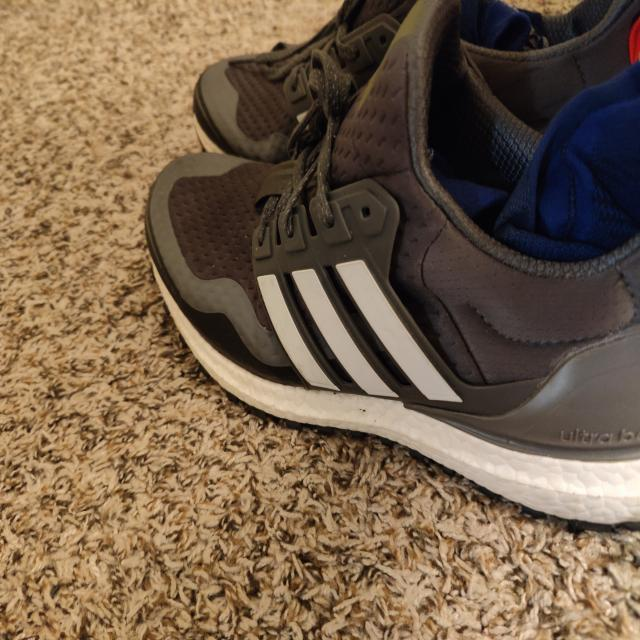black shoes: (218, 63, 640, 418)
